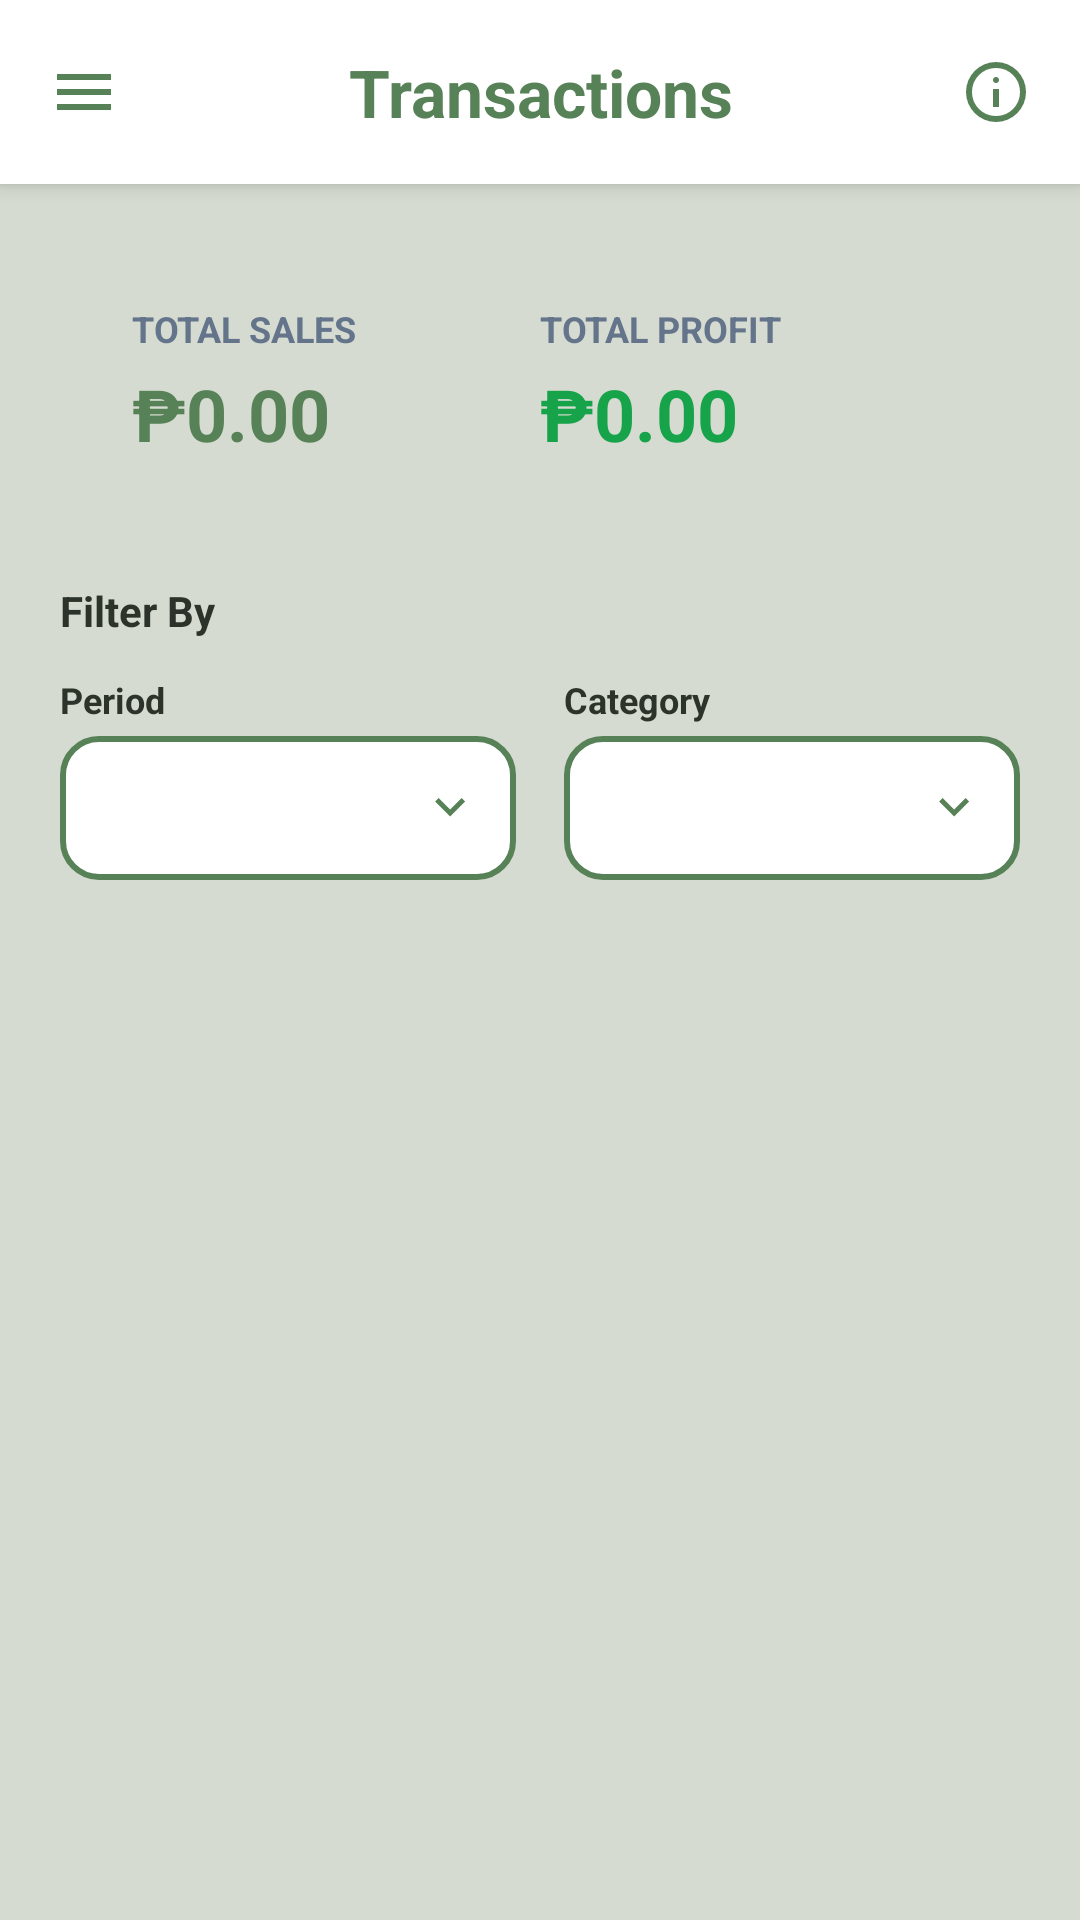

Where icons sit on this 1080w x 1920h app screen, as {"left": x1, "top": y1, "right": x2, "bottom": y2}:
arrow down: {"left": 435, "top": 798, "right": 465, "bottom": 817}, {"left": 939, "top": 798, "right": 969, "bottom": 817}
info: {"left": 966, "top": 62, "right": 1026, "bottom": 122}
menu: {"left": 57, "top": 74, "right": 111, "bottom": 110}
